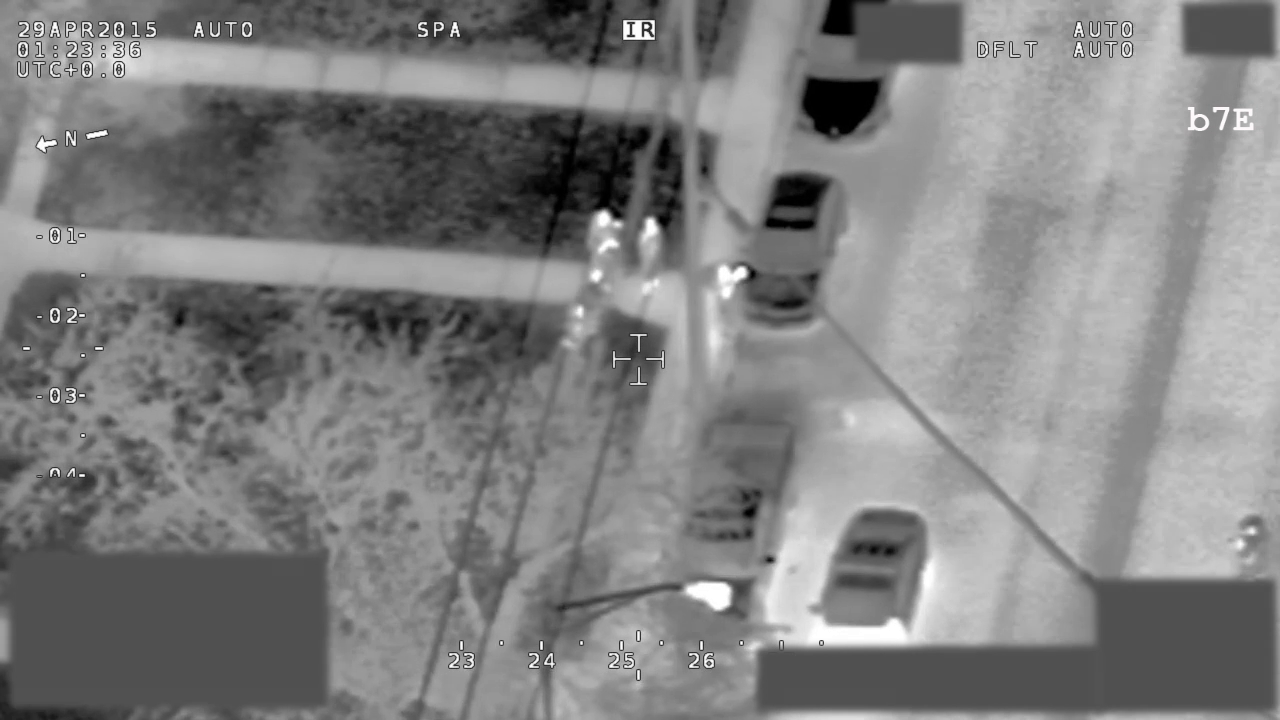vehicle: (805, 503, 941, 648), (687, 416, 798, 579), (743, 171, 853, 332), (791, 1, 902, 146)
